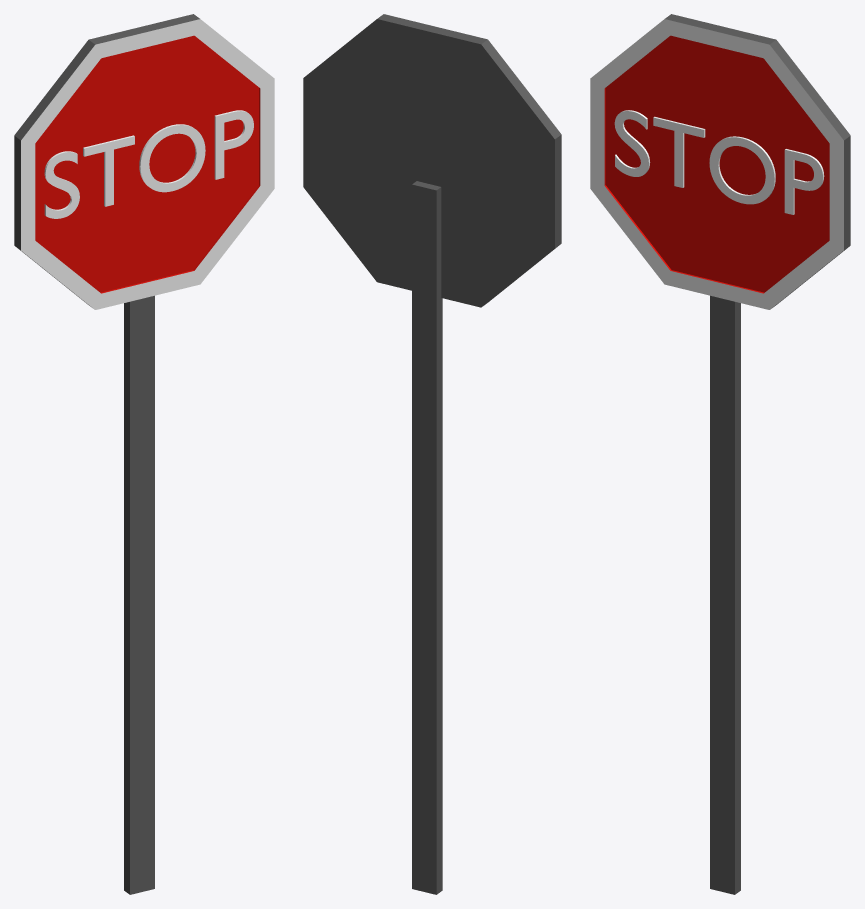
File: prop_stop_sign.glb
3 views of the same model, side by side, from view 1: azimuth 30°, elevation 25°; view 2: azimuth 150°, elevation 25°; view 3: azimuth 330°, elevation 25° (orthographic).
Parts seen in each view (by area): view 1: stop sign; view 2: stop sign; view 3: stop sign.
Part boxes in pixels (x1=…): stop sign: x1=14, y1=14, x2=274, y2=894; stop sign: x1=303, y1=14, x2=561, y2=894; stop sign: x1=590, y1=14, x2=850, y2=894.
Size of the model in its own units: 2.56 by 8.32 by 0.2051.
